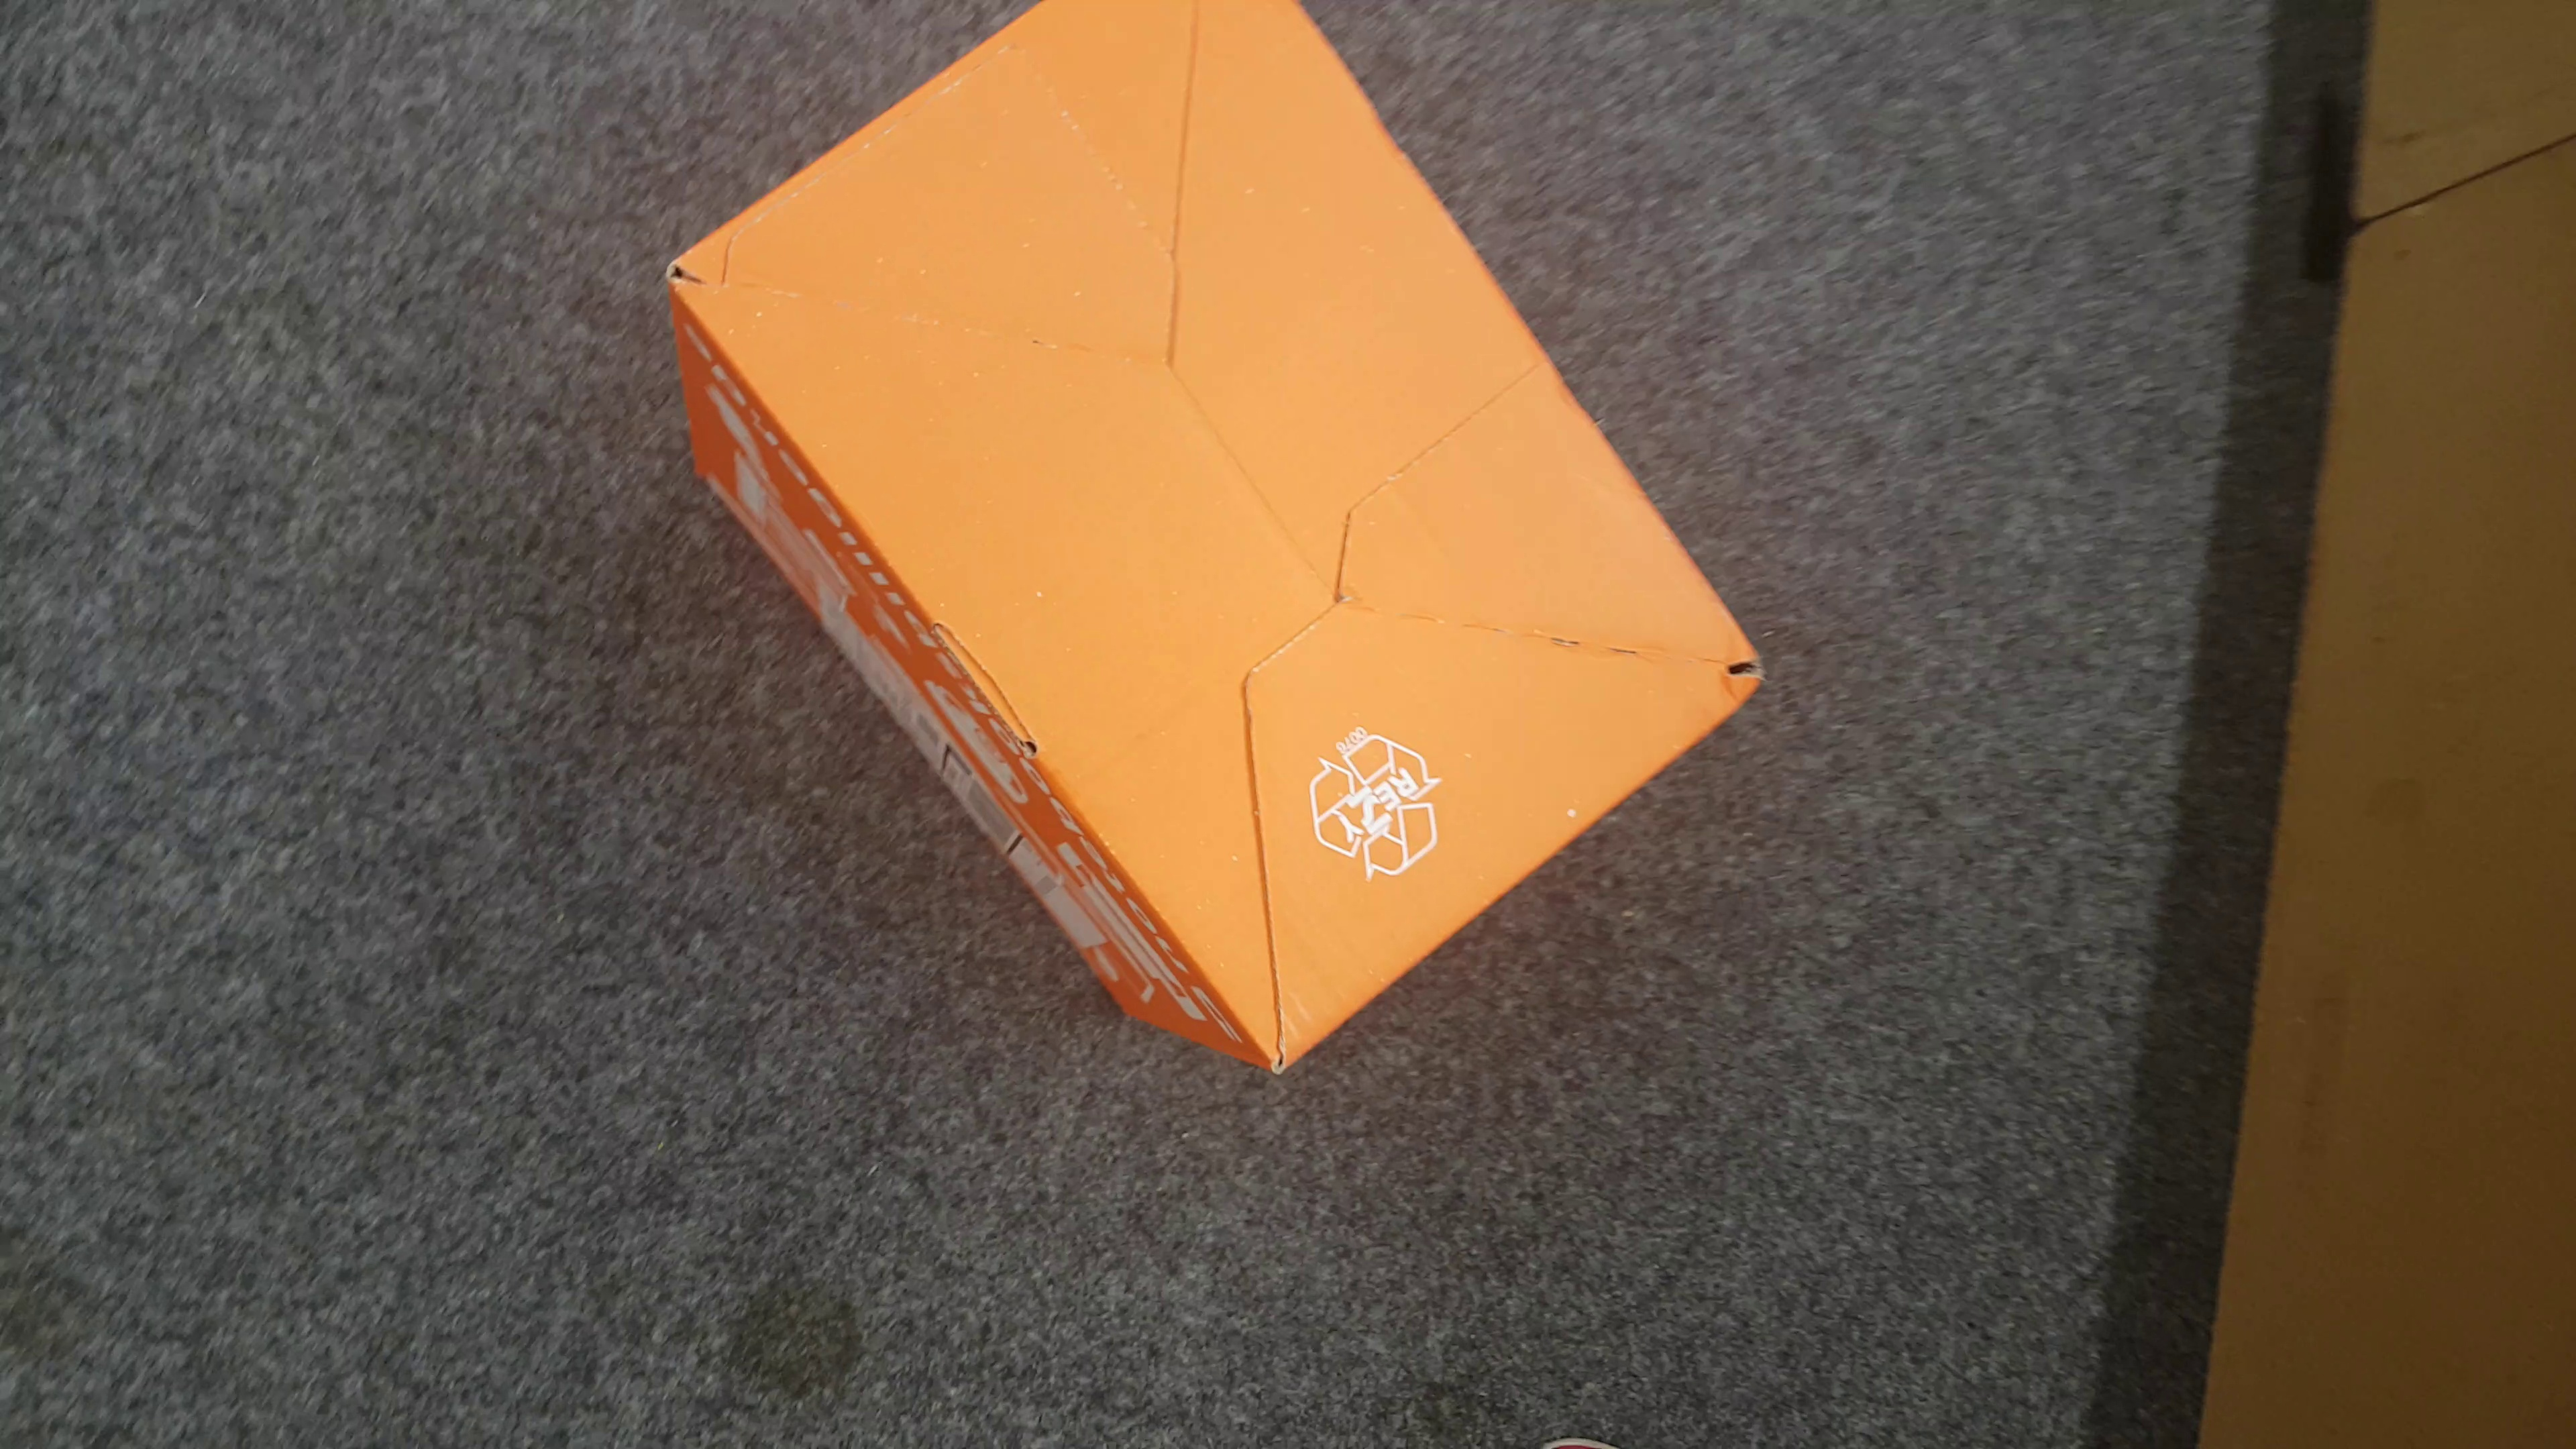push: (660, 16, 1762, 1067)
